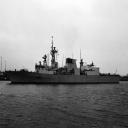Fragata: (5, 37, 122, 87)
